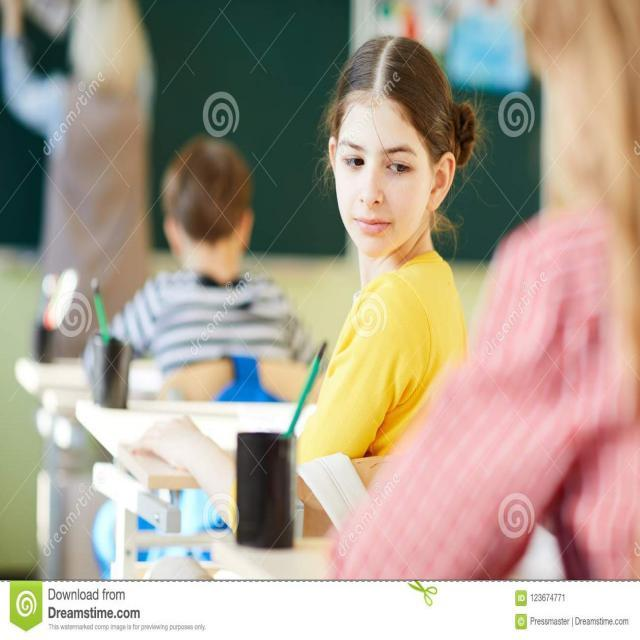cheating: (286, 29, 489, 480)
